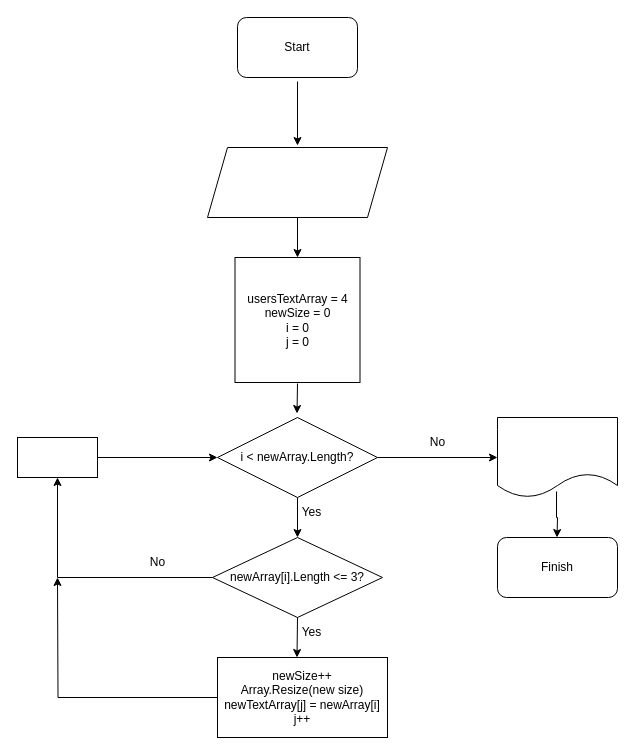
The diagram is 635 pixels wide and 755 high, and some of its shapes have lost their labels. Here are the shapes that lost their labels. From the top down, the centre of each, then its label:
the point at 297,182: usersArray[0] usersArray[1] usersArray[2] usersArray[3]
the point at 57,457: i++
the point at 557,457: usersTextArray newTextArray
